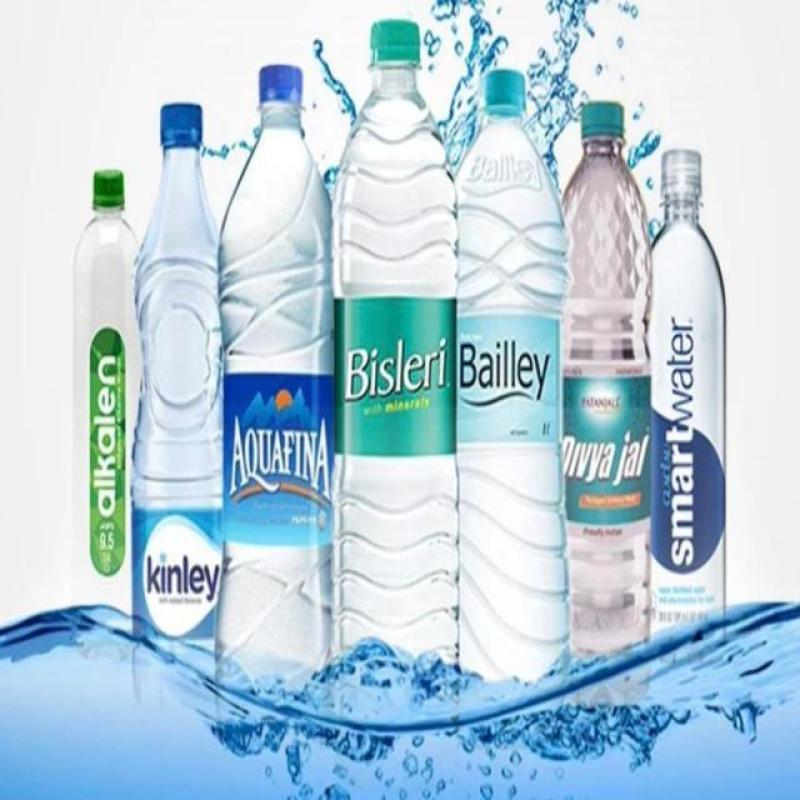botella: (329, 21, 459, 680), (218, 64, 334, 668), (456, 68, 570, 673), (132, 102, 227, 652), (560, 100, 650, 649)
